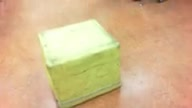cube: (37, 18, 124, 108)
